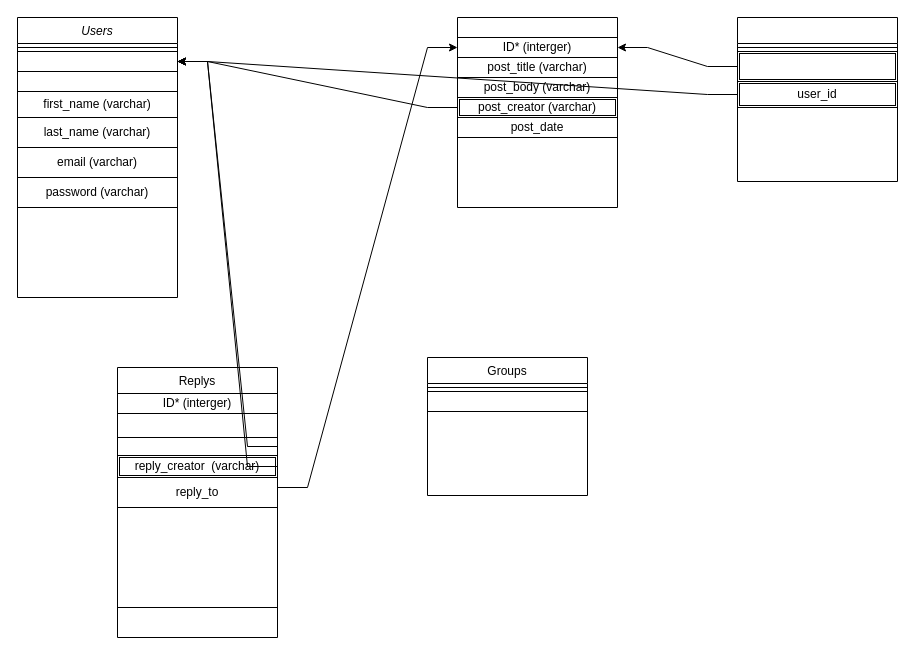
The diagram is 915 pixels wide and 655 high, and some of its shapes have lost their labels. Here are the shapes that lost their labels. From the top down, the box of each, then its label:
(16, 50, 178, 72): ID* (integer)
(16, 70, 178, 92): display_name (varchar)
(736, 50, 898, 82): post_id
(456, 16, 618, 208): Posts
(736, 16, 898, 182): liked_posts
(426, 390, 588, 412): ID*
(116, 412, 278, 438): reply_text (varchar)
(116, 436, 278, 456): reply_date
